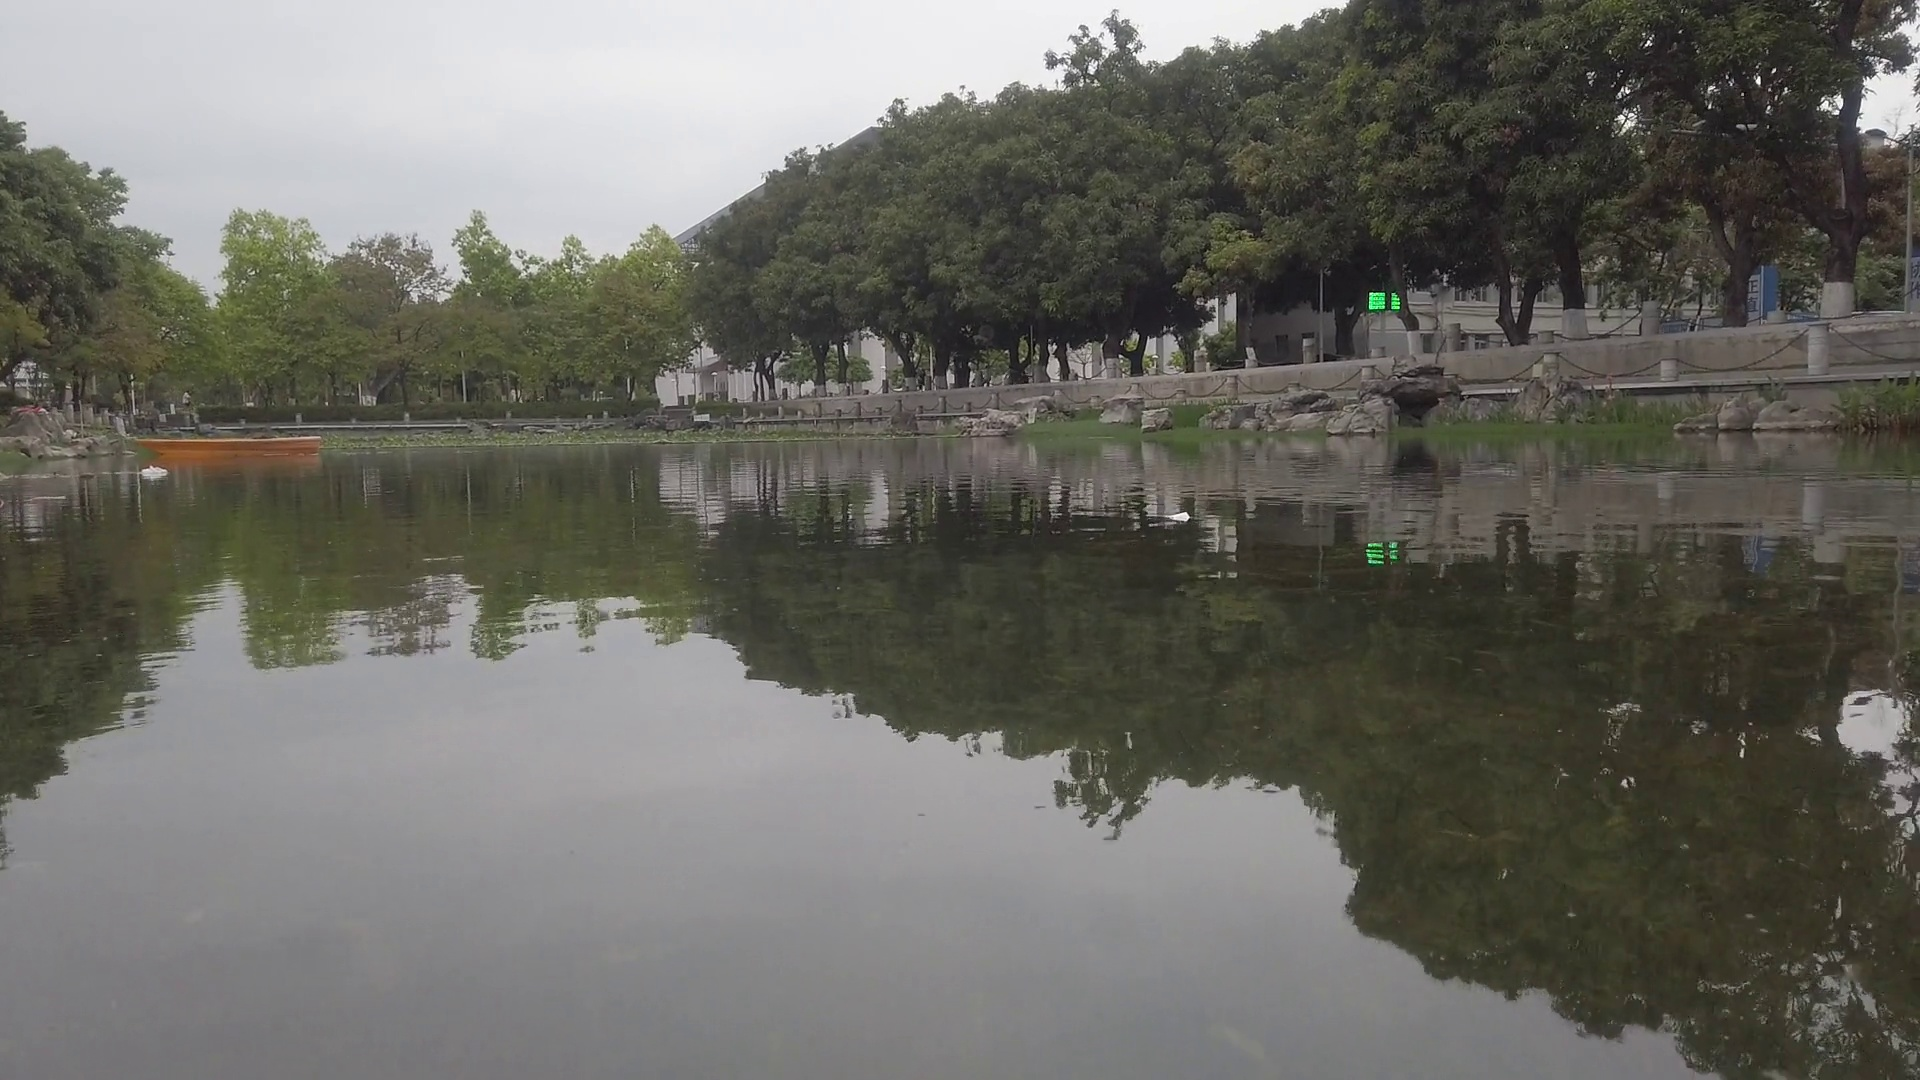paper: (29, 487, 65, 502), (1166, 510, 1193, 524)
plastic: (142, 464, 167, 477)
